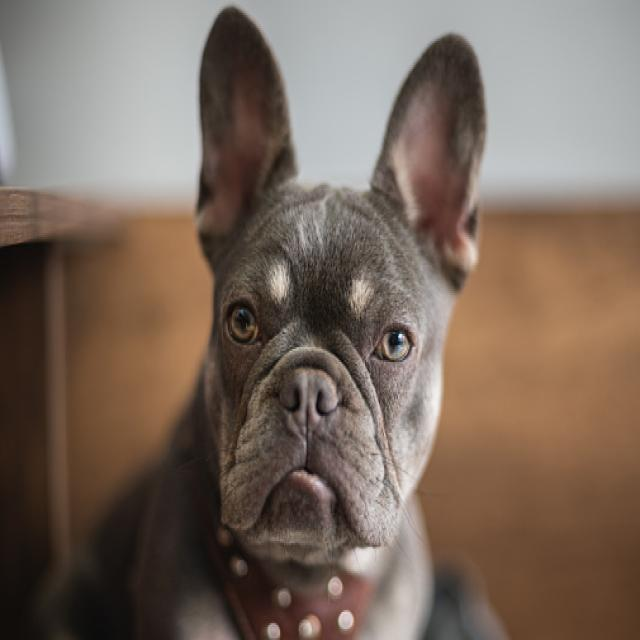bulldog: (162, 0, 497, 601)
